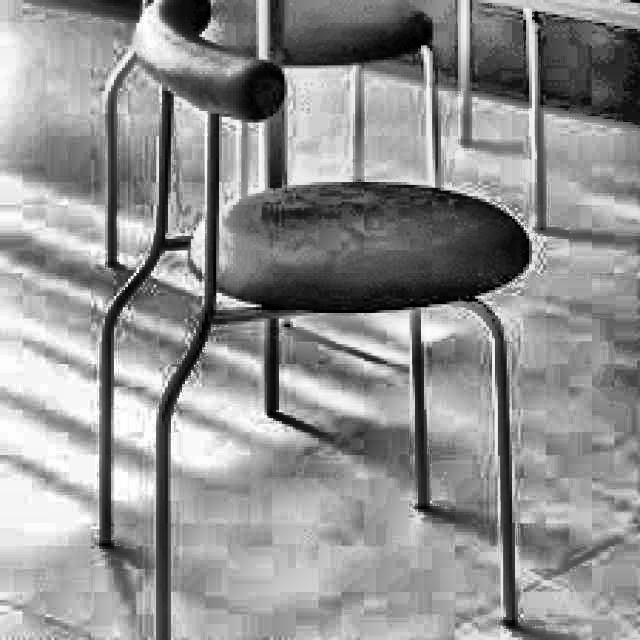cadeira: (90, 0, 538, 640), (136, 0, 534, 319)
